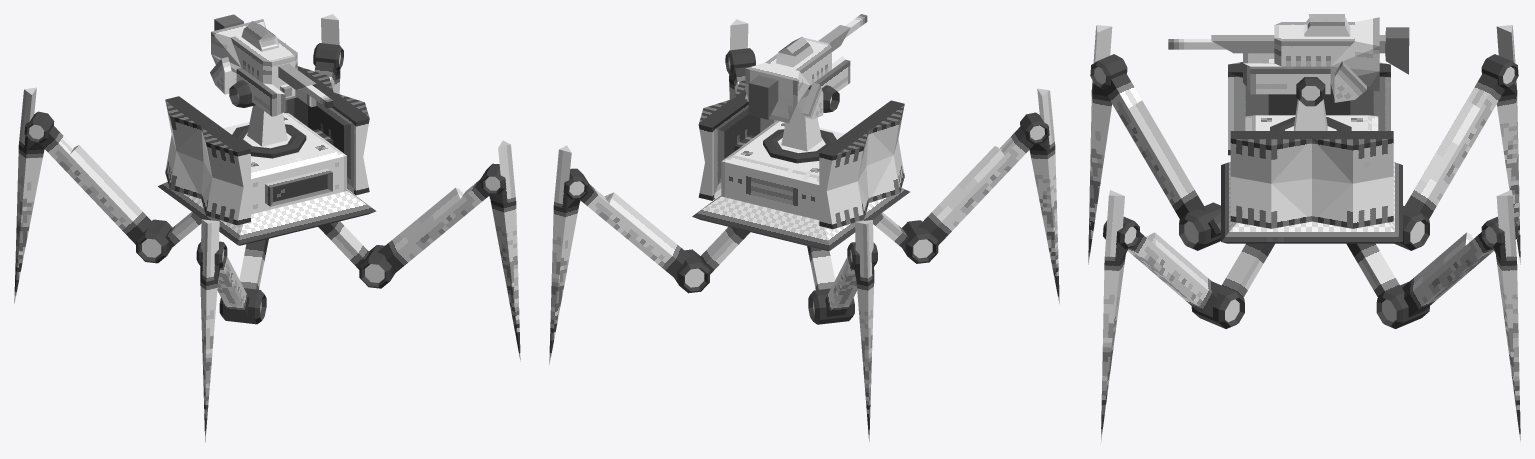
Rendered from Turret Robot.glb.
3 renders of one model, left to right at view 1: azimuth 30°, elevation 25°; view 2: azimuth 150°, elevation 25°; view 3: azimuth 270°, elevation 25°, orthographic. The views are drawn at different scales.
Parts seen in each view (by area): view 1: Armor, Frame, turret, middle leg.002, middle leg.001, lower leg.001, lower leg.002, lower leg, Turner, root, middle leg, upper elbow.002 (+11 smaller); view 2: Armor, Frame, turret, middle leg, middle leg.003, lower leg.003, lower leg, lower leg.002, turret muzzle, Turner, root, middle leg.002 (+10 smaller); view 3: Armor, turret, Frame, middle leg, middle leg.002, middle leg.003, middle leg.001, lower leg.003, lower leg.001, lower leg, lower leg.002, turret muzzle (+13 smaller).
Part boxes in pixels (<box>): Armor: <box>165,66,369,225</box>; Frame: <box>158,113,376,245</box>; turret: <box>210,19,333,116</box>; middle leg.002: <box>40,125,156,244</box>; middle leg.001: <box>378,179,489,275</box>; lower leg.001: <box>489,140,520,361</box>; lower leg.002: <box>14,87,44,303</box>; lower leg: <box>200,219,220,442</box>; Turner: <box>232,124,306,158</box>; root: <box>247,105,287,146</box>; middle leg: <box>217,256,249,316</box>; upper elbow.002: <box>136,219,172,263</box>; Armor: <box>698,80,904,229</box>; Frame: <box>692,120,909,250</box>; turret: <box>745,14,867,123</box>; middle leg: <box>917,126,1033,245</box>; middle leg.003: <box>579,184,691,279</box>; lower leg.003: <box>549,145,580,364</box>; lower leg: <box>1029,88,1059,303</box>; lower leg.002: <box>854,220,874,441</box>; turret muzzle: <box>748,25,850,119</box>; Turner: <box>763,129,836,163</box>; root: <box>781,107,821,151</box>; middle leg.002: <box>825,257,857,316</box>; Armor: <box>1228,62,1393,228</box>; turret: <box>1168,14,1379,102</box>; Frame: <box>1221,115,1402,243</box>; middle leg: <box>1104,73,1206,219</box>; middle leg.002: <box>1403,73,1504,219</box>; middle leg.003: <box>1402,232,1493,317</box>; middle leg.001: <box>1127,232,1219,317</box>; lower leg.003: <box>1493,190,1520,441</box>; lower leg.001: <box>1100,190,1128,444</box>; lower leg: <box>1088,25,1112,264</box>; lower leg.002: <box>1496,25,1520,264</box>; turret muzzle: <box>1211,27,1409,74</box>.
Size of the model in its own units: 6.83 by 6.14 by 7.04.
2 materials, 2 textured.
